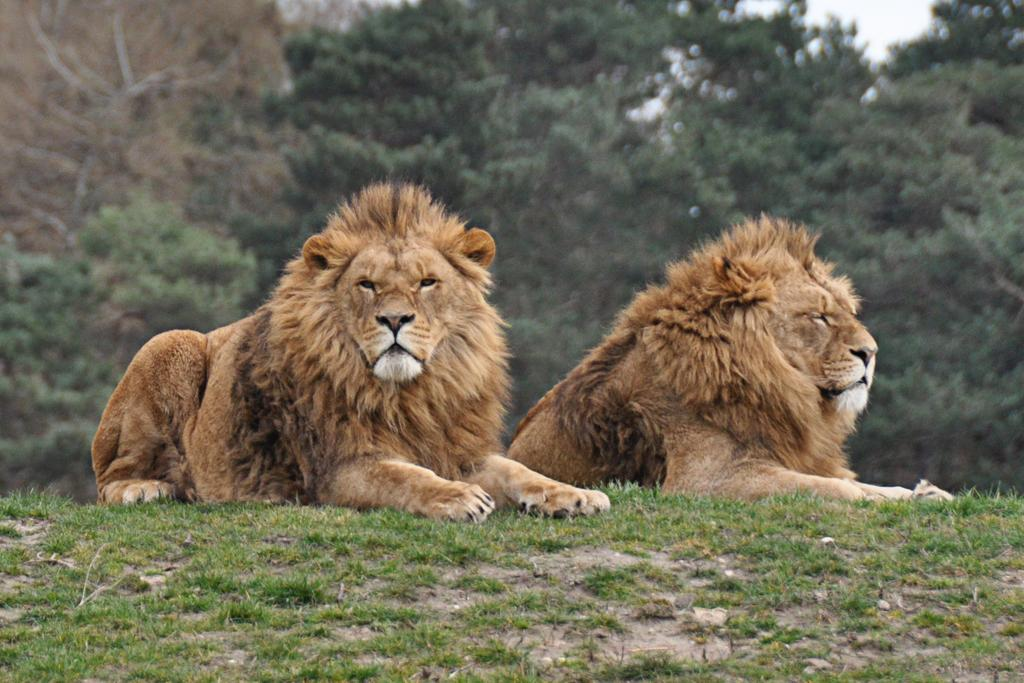lions: (42, 171, 583, 530), (595, 192, 964, 534)
